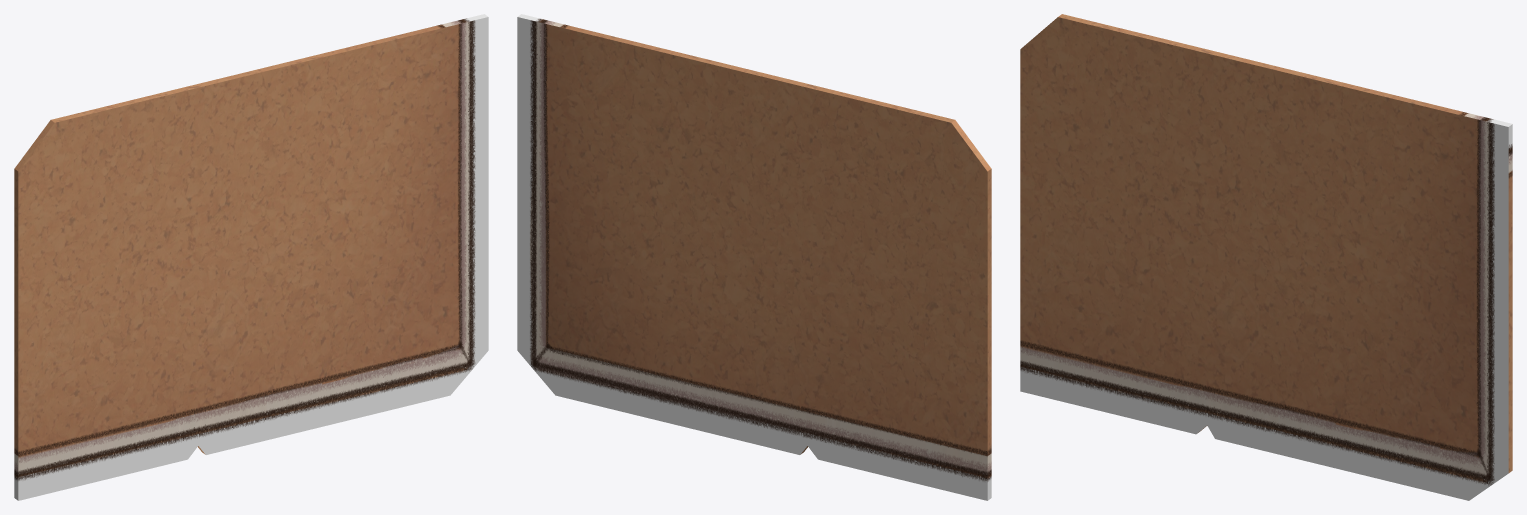
The model's file is Corcho.fbx.
3 renders of one model, left to right at view 1: azimuth 30°, elevation 25°; view 2: azimuth 150°, elevation 25°; view 3: azimuth 330°, elevation 25°, orthographic. The views are drawn at different scales.
Parts seen in each view (by area): view 1: Plane.018; view 2: Plane.018; view 3: Plane.018.
Boxes of the visible parts, bbox=[...] form: Plane.018: bbox=[14, 14, 488, 500]; Plane.018: bbox=[517, 14, 991, 500]; Plane.018: bbox=[1020, 14, 1512, 500].
Bounding box in the file's own units: 153 × 115 × 2.26.
